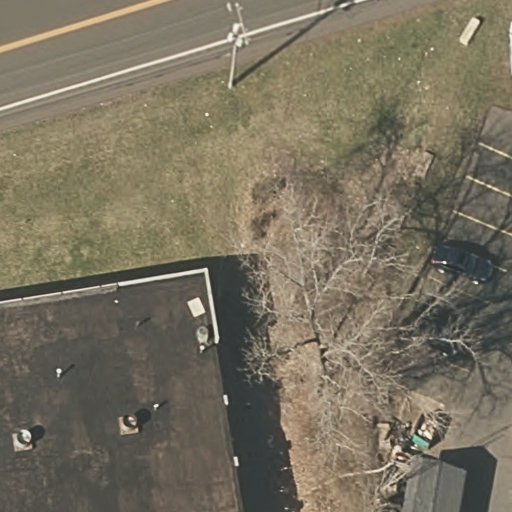DT: (222, 4, 258, 94)
